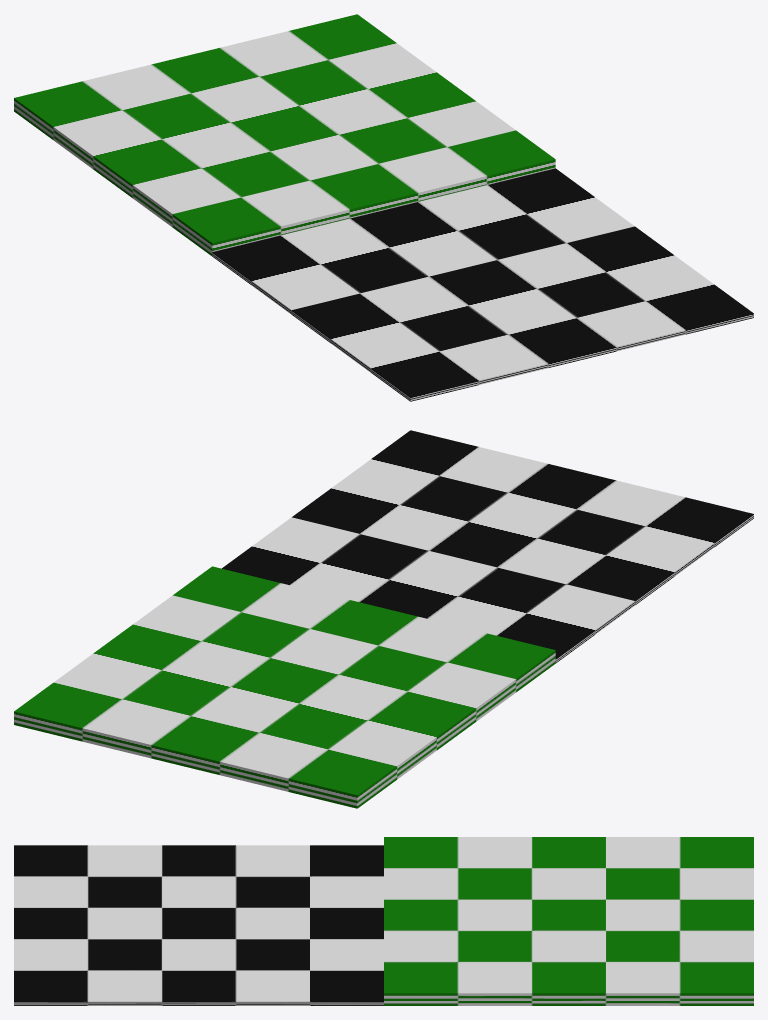
Rendered from ground_test.glb.
The picture shows the model from 3 angles, top to bottom: view 1: azimuth 30°, elevation 25°; view 2: azimuth 150°, elevation 25°; view 3: azimuth 270°, elevation 25°; orthographic projection. The views are drawn at different scales.
Parts seen in each view (by area): view 1: yard -col, road_test -col; view 2: yard -col, road_test -col; view 3: yard -col, road_test -col.
Part boxes in pixels (<box>): yard -col: <box>14,14,555,256</box>; road_test -col: <box>212,168,753,401</box>; yard -col: <box>14,566,555,808</box>; road_test -col: <box>222,430,753,663</box>; yard -col: <box>384,837,753,1005</box>; road_test -col: <box>14,845,383,1005</box>.
Bounding box in the file's own units: 8 × 0.3 × 16.
2 materials, 2 textured.
